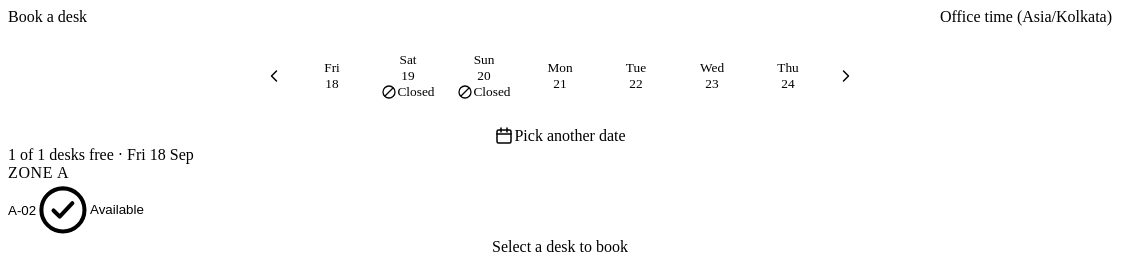
Test case: BookADesk — a second booking on the same date, discovered only on confirm (US-007/AC-05) › refetches availability for the same date, then replaces the desk list with the existing-booking state, moving focus there once the refetch resolves
Click the radio button labelled "A-02 Available" at (63, 210), box [8,182,1112,238]
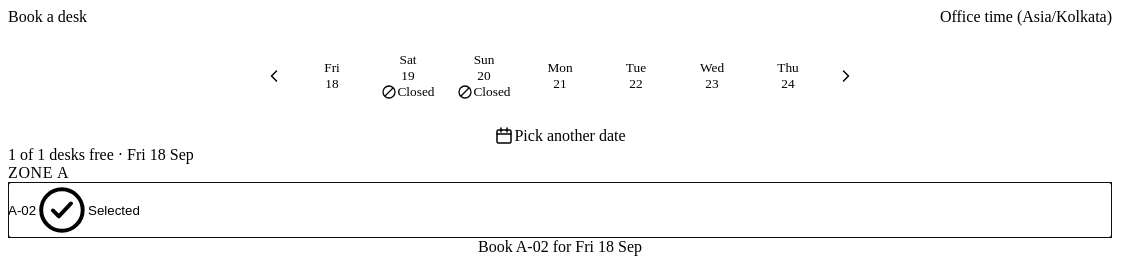
Click the button "Book A-02 for Fri 18 Sep" at (560, 247), box [8,238,1112,256]
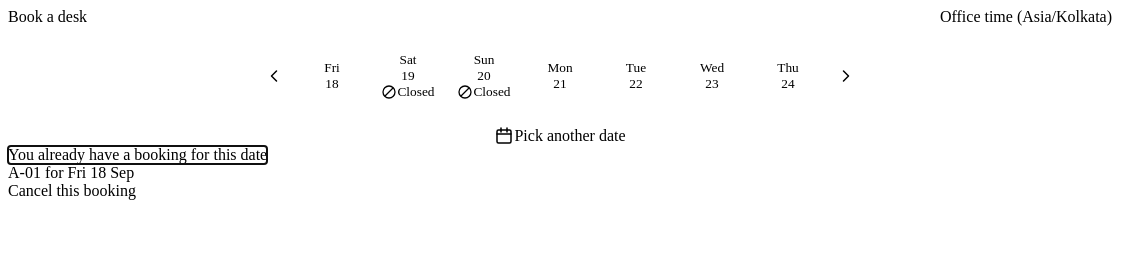
Expected: the heading "You already have a booking for this date" is shown, [8,146,267,164]
Expected: the text "A-01 for Fri 18 Sep" is shown, [8,164,134,182]
